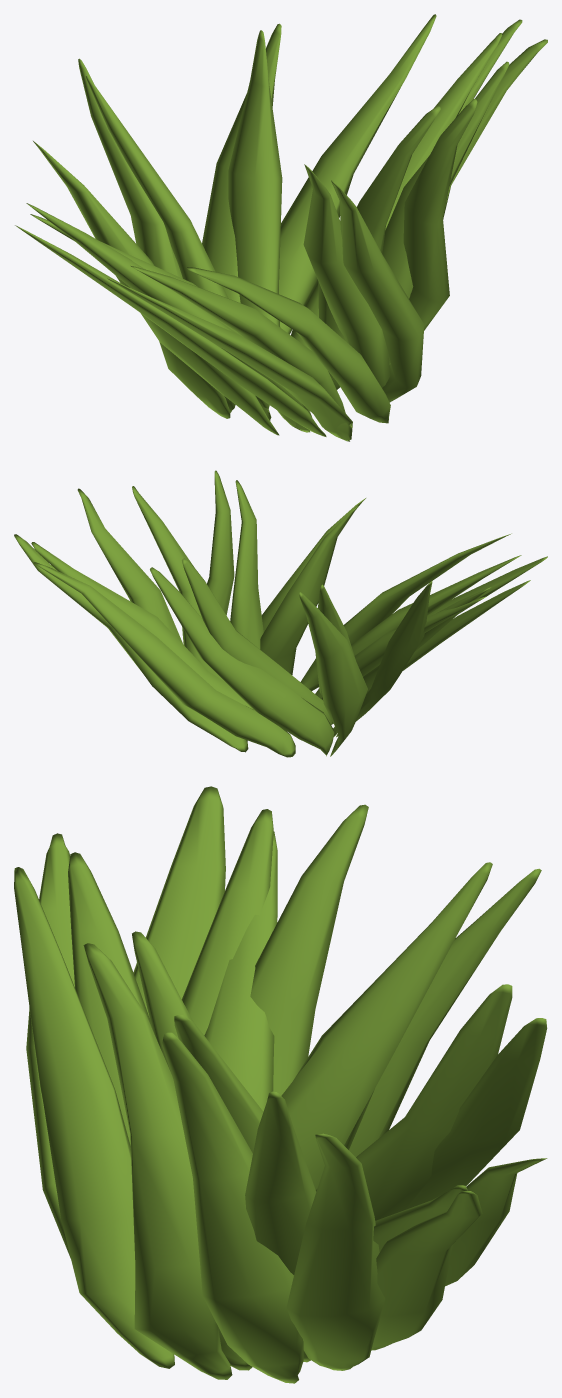
The model's file is grass.glb.
3 renders of one model, top to bottom at view 1: azimuth 30°, elevation 25°; view 2: azimuth 150°, elevation 25°; view 3: azimuth 270°, elevation 25°, orthographic. The views are drawn at different scales.
Parts seen in each view (by area): view 1: Plane.002; view 2: Plane.002; view 3: Plane.002.
Boxes of the visible parts, x1=… form: Plane.002: x1=15, y1=14, x2=547, y2=441; Plane.002: x1=14, y1=470, x2=547, y2=757; Plane.002: x1=14, y1=786, x2=547, y2=1383.
Size of the model in its own units: 2.64 by 1.27 by 1.54.
